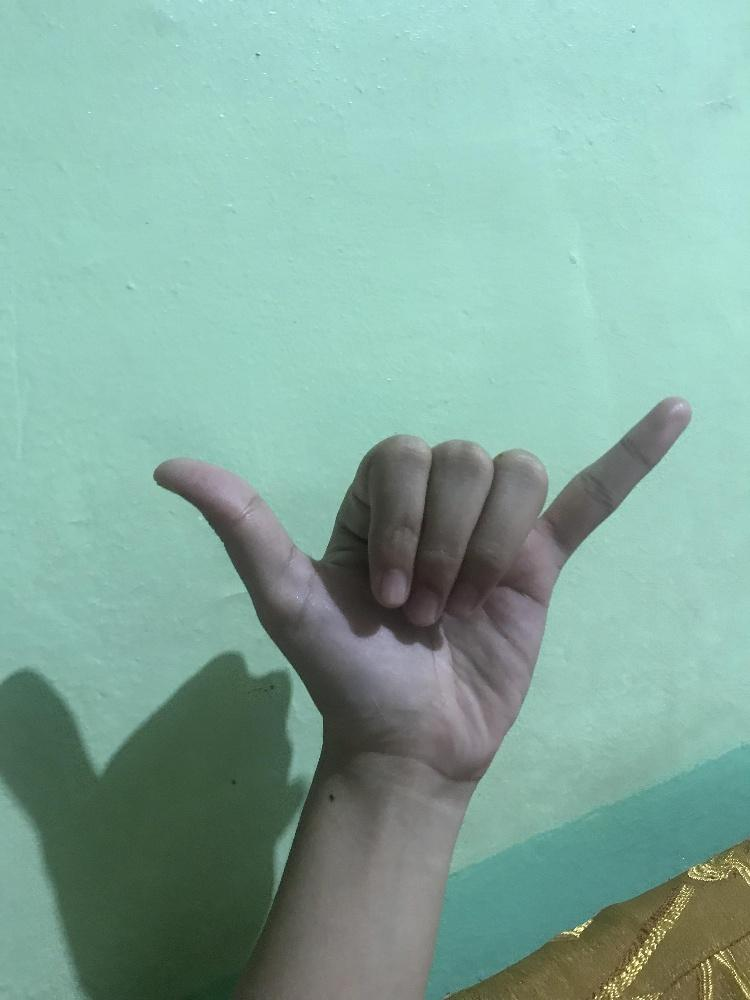y: (146, 388, 697, 789)
